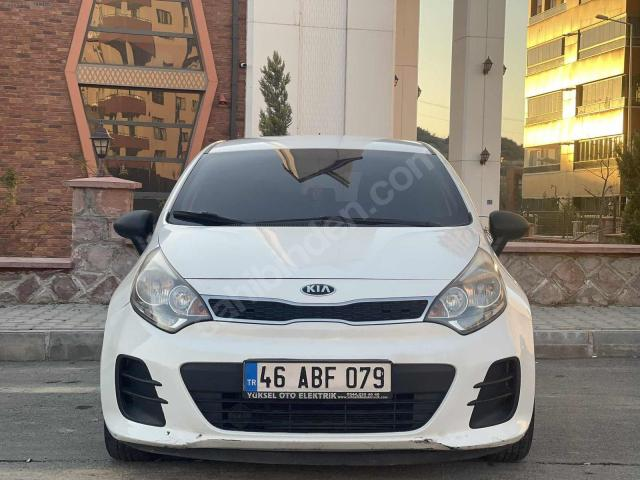plaka: (244, 361, 391, 398)
